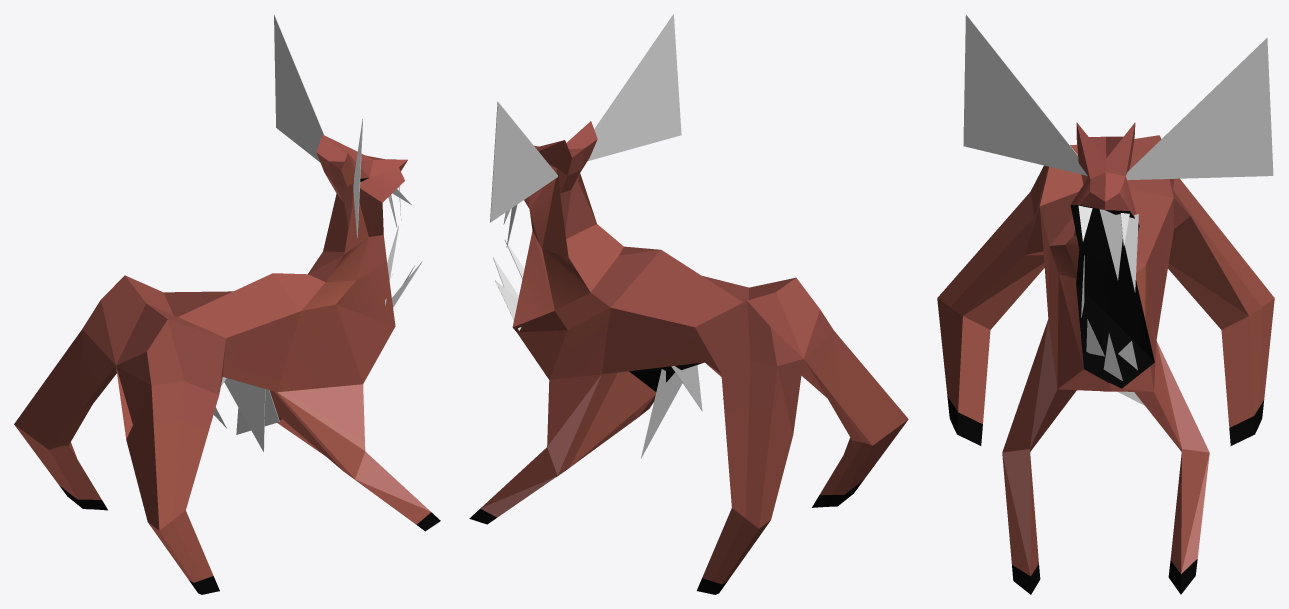
The model's file is enemy1.glb.
3 views of the same model, side by side, from view 1: azimuth 30°, elevation 25°; view 2: azimuth 150°, elevation 25°; view 3: azimuth 270°, elevation 25° (orthographic). The views are drawn at different scales.
Visible parts, largest first — view 1: Plane.004; view 2: Plane.004; view 3: Plane.004.
Boxes of the visible parts, <box> form: Plane.004: <box>14,14,440,594</box>; Plane.004: <box>469,14,908,594</box>; Plane.004: <box>937,14,1274,594</box>.
Bounding box in the file's own units: 4.21 × 5.47 × 3.21.
Materials: 1 (1 with a texture image).
